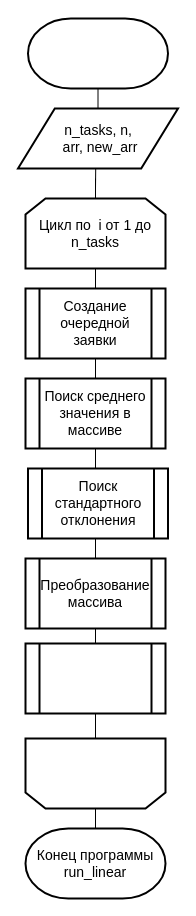
This 196x916 diagram has some shape labels left out. Here are the shapes that lost their labels. From the top down, the centre of each, then its label:
At point 97,53: "Начало программы run_linear".
At point 95,678: "Отправка заявки в пул обработанных заявок".
At point 95,773: "Конец цикла по i от 1 до n".
